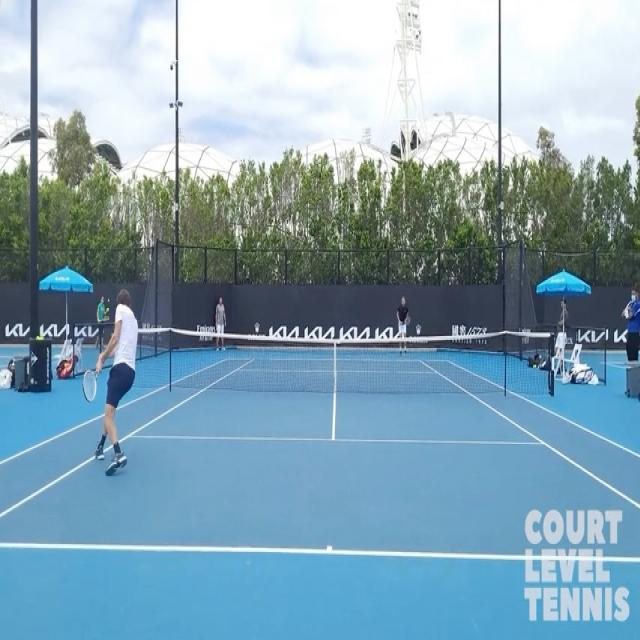backhand-stroke: (79, 286, 146, 476)
